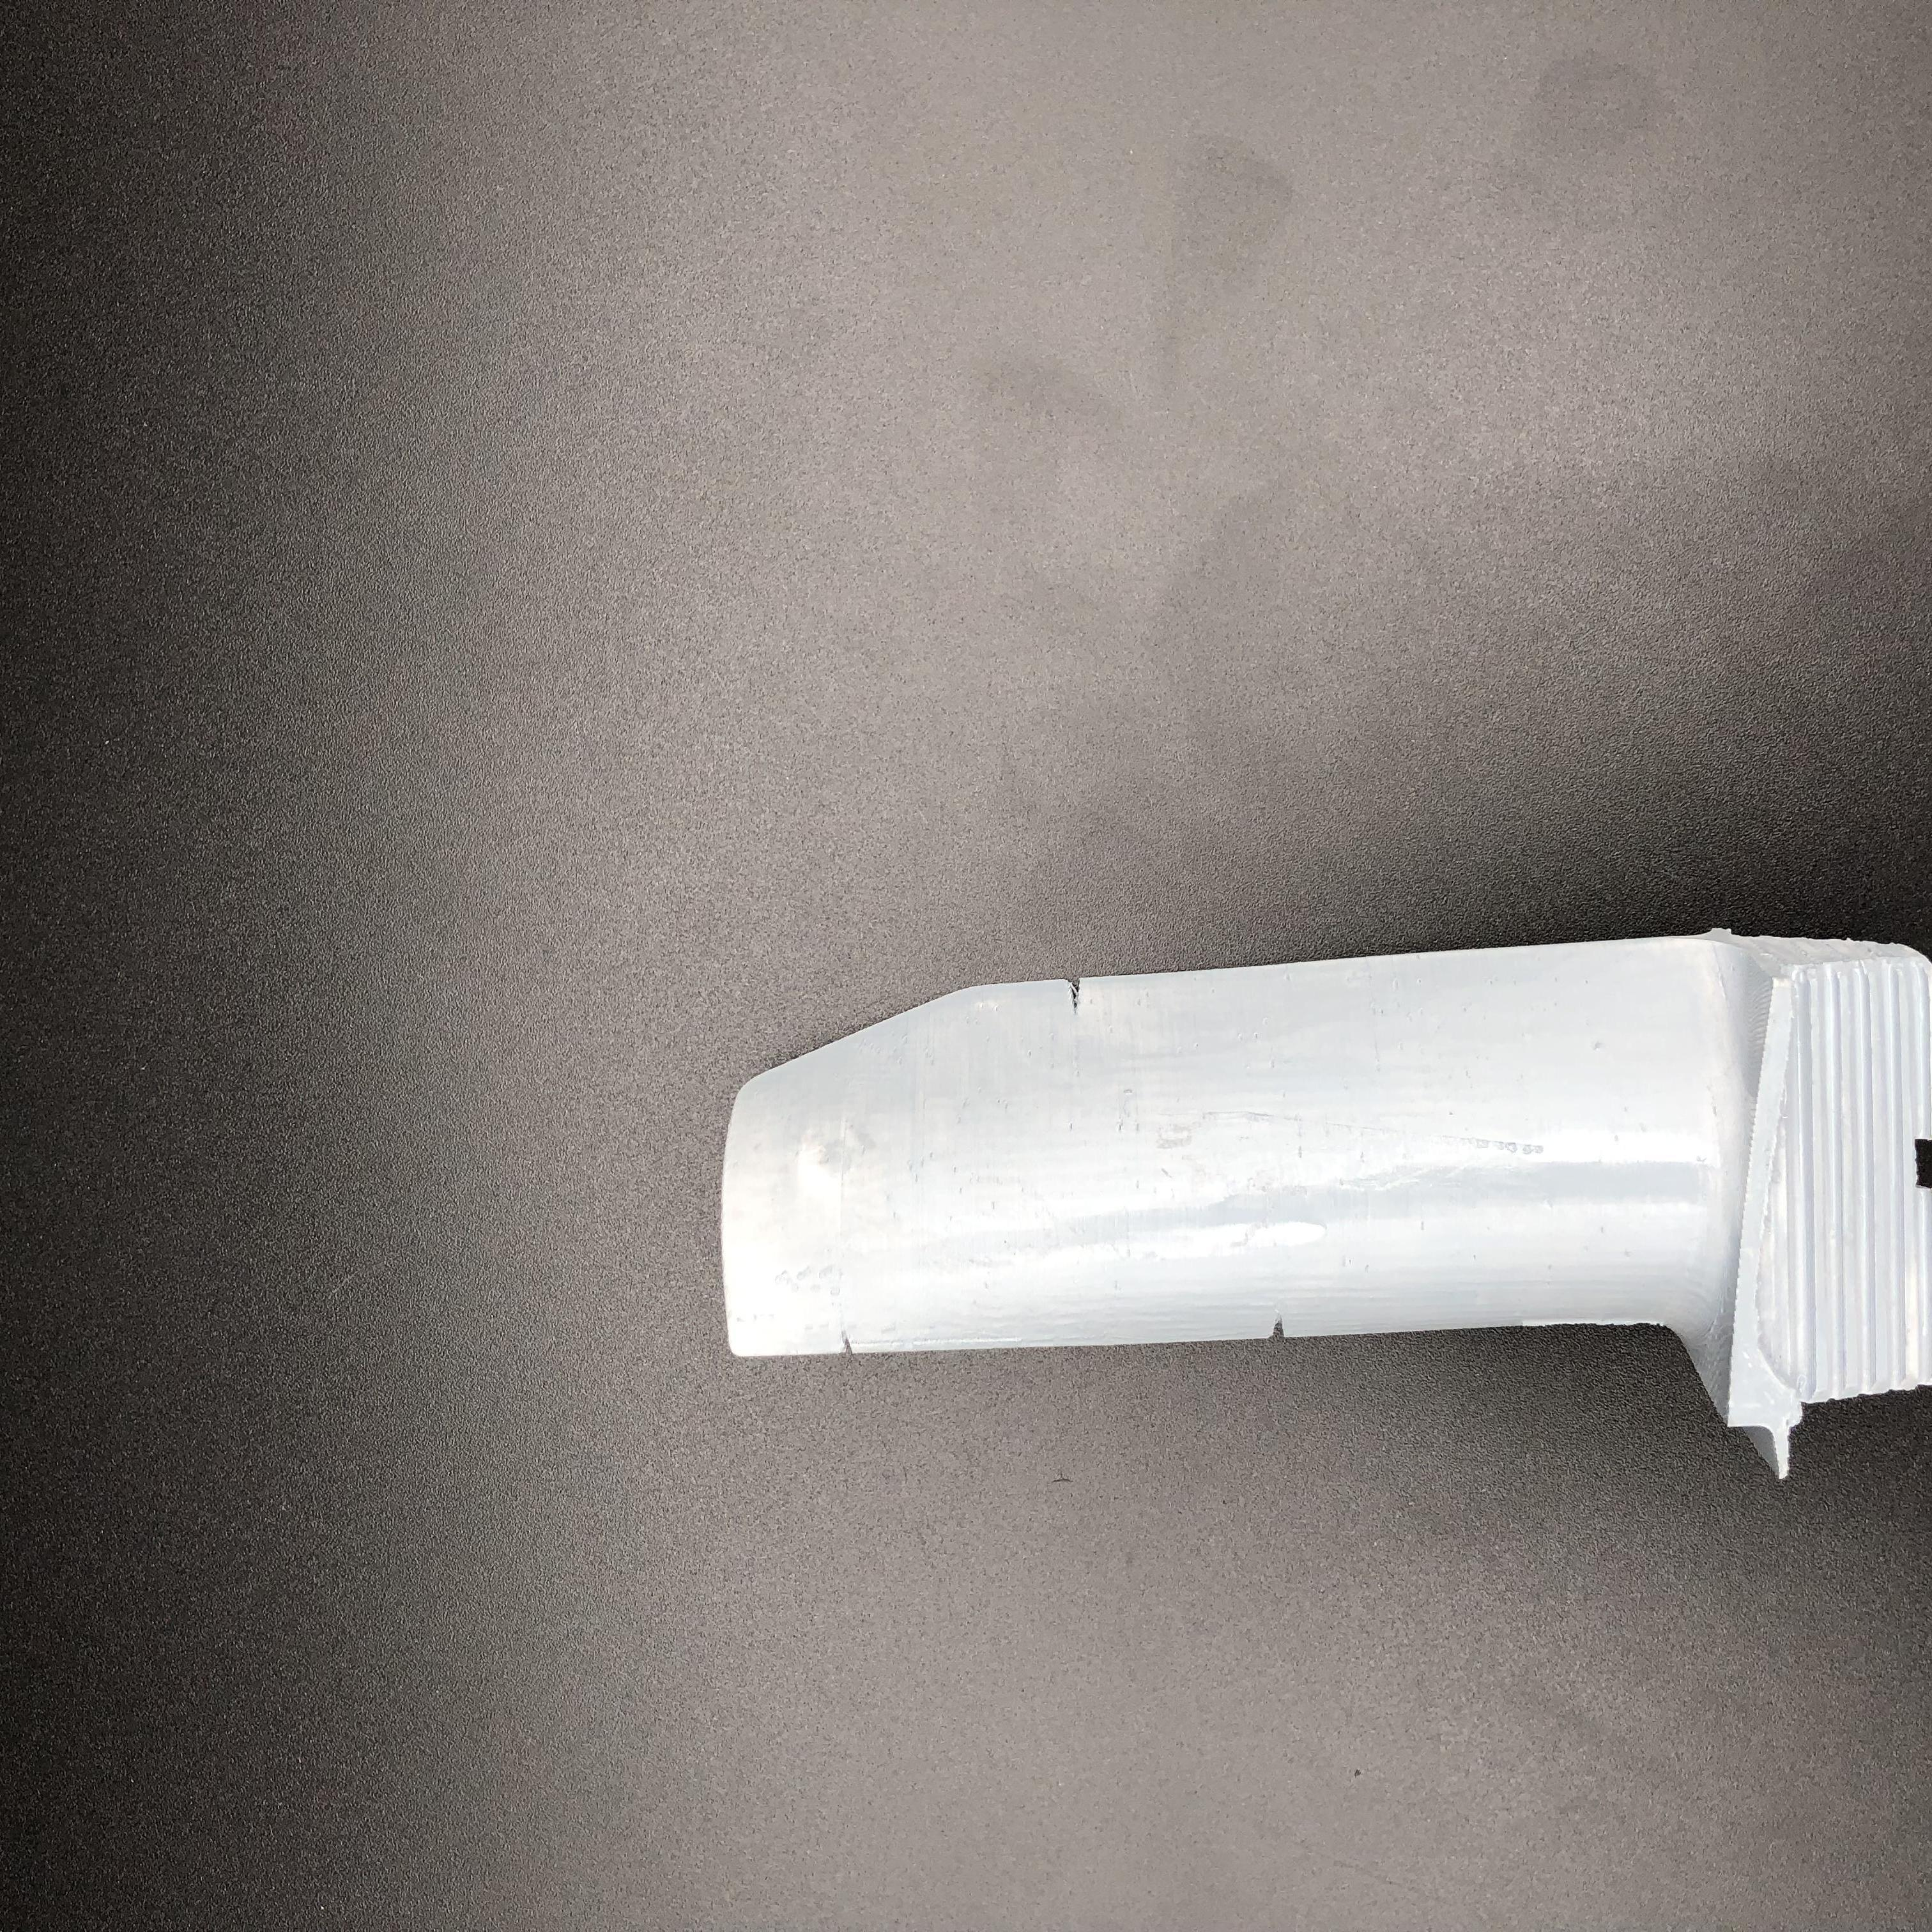groove: (1053, 980, 1097, 1016), (1267, 1311, 1299, 1339), (830, 1329, 865, 1353)
